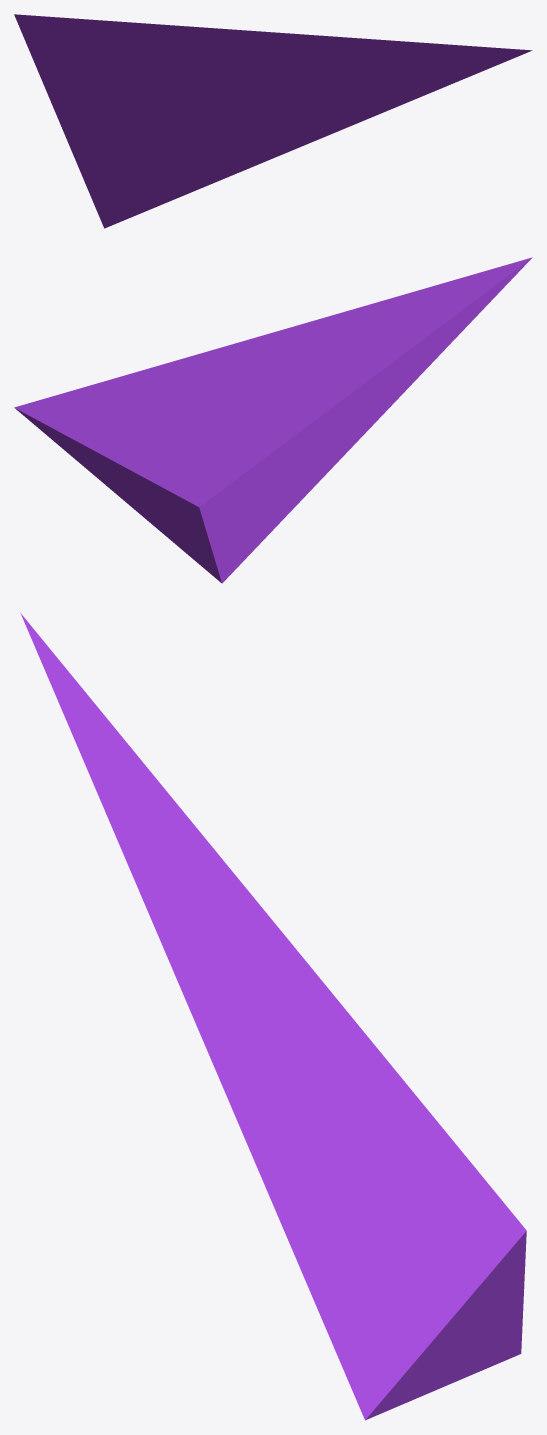
Rendered from Window_124_0_chunks.fbx.
The picture shows the model from 3 angles, top to bottom: view 1: azimuth 30°, elevation 25°; view 2: azimuth 150°, elevation 25°; view 3: azimuth 270°, elevation 25°; orthographic projection. The views are drawn at different scales.
Visible parts, largest first — view 1: Window_124_0_0; view 2: Window_124_0_0; view 3: Window_124_0_0.
Boxes of the visible parts, x1,y1,x2,y2 form: Window_124_0_0: (14,14,532,228); Window_124_0_0: (14,257,532,583); Window_124_0_0: (20,613,526,1420).
Bounding box in the file's own units: 351 × 217 × 178.
